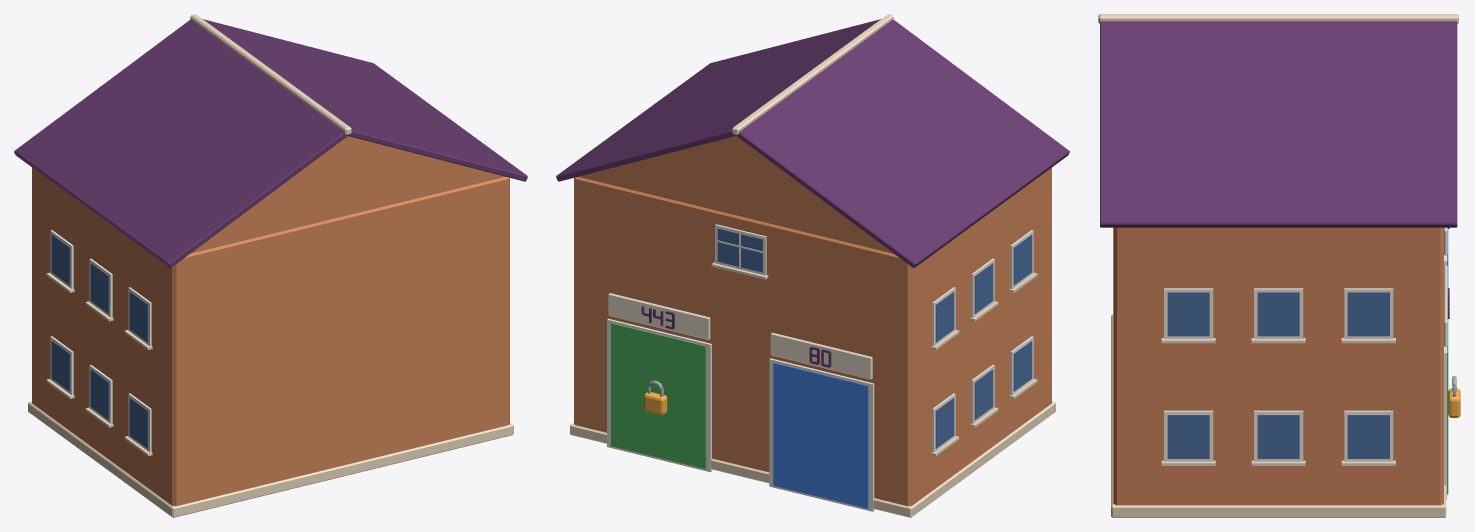
File: bld_d4_b.glb
The picture shows the model from 3 angles, left to right: view 1: azimuth 30°, elevation 25°; view 2: azimuth 150°, elevation 25°; view 3: azimuth 270°, elevation 25°; orthographic projection. The views are drawn at different scales.
Visible parts, largest first — view 1: bld_d4_b; view 2: bld_d4_b; view 3: bld_d4_b.
Part boxes in pixels (left/top/right/bottom): bld_d4_b: left=14, top=14, right=527, bottom=517; bld_d4_b: left=556, top=14, right=1069, bottom=517; bld_d4_b: left=1098, top=14, right=1460, bottom=517.
Bounding box in the file's own units: 15.97 × 15.05 × 12.05.
